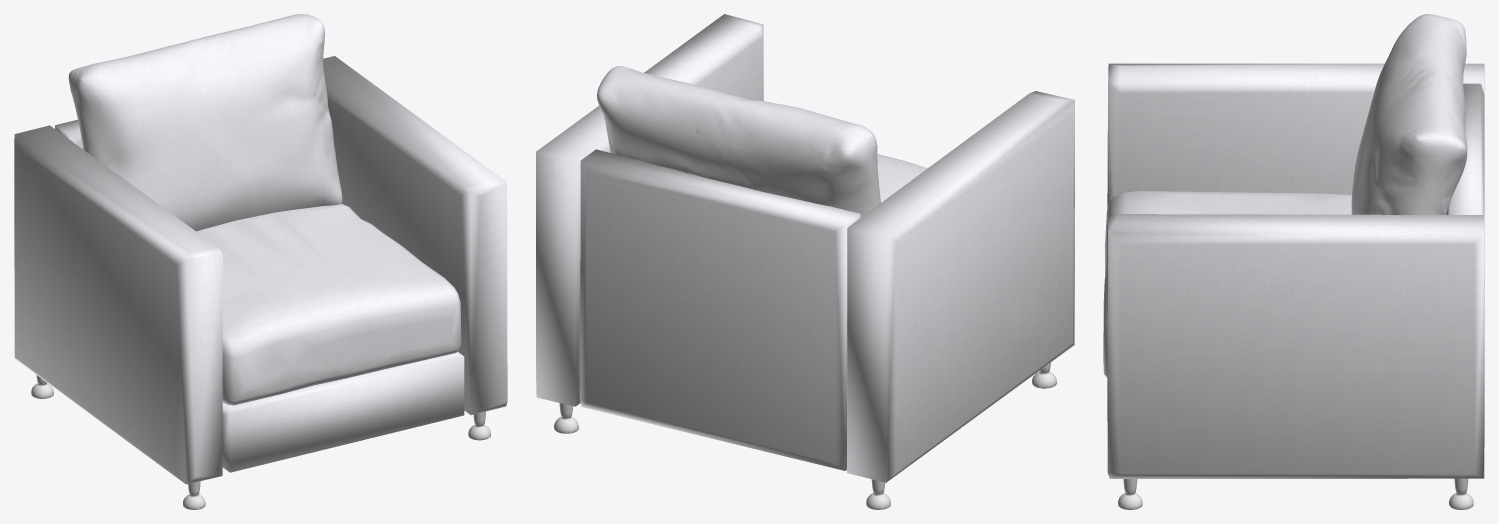
3 renders of one model, left to right at view 1: azimuth 30°, elevation 25°; view 2: azimuth 150°, elevation 25°; view 3: azimuth 270°, elevation 25°, orthographic. The views are drawn at different scales.
Parts seen in each view (by area): view 1: user-armchair; view 2: user-armchair; view 3: user-armchair.
Part boxes in pixels (bbox=[...]): user-armchair: bbox=[14, 14, 507, 509]; user-armchair: bbox=[536, 14, 1074, 509]; user-armchair: bbox=[1103, 14, 1484, 509].
Size of the model in its own units: 0.9977 by 0.9483 by 0.9176.
Materials: 2 (1 with a texture image).
